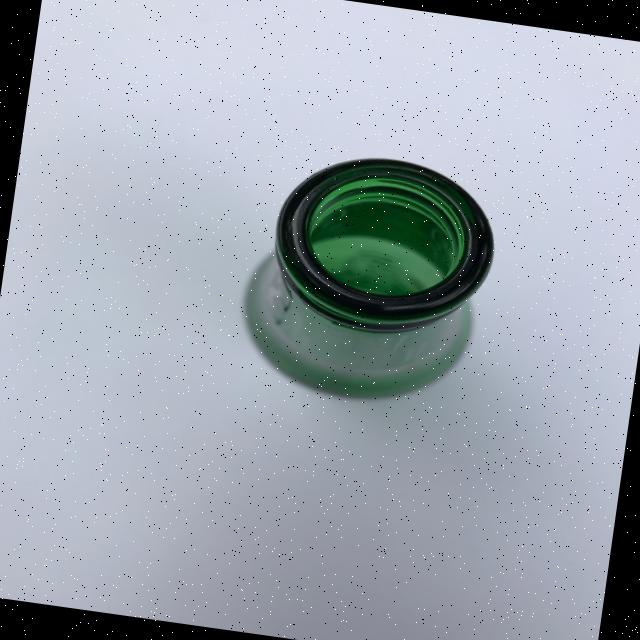glass: (231, 140, 506, 415)
